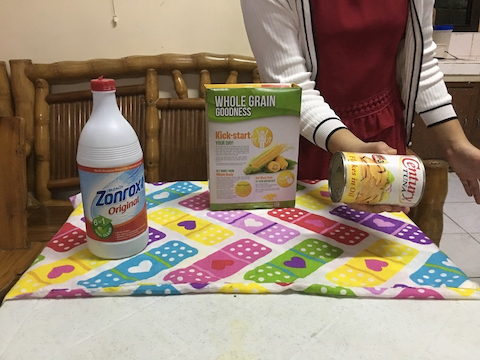bottle: (77, 77, 154, 264)
box: (203, 80, 306, 213)
can: (325, 152, 430, 206)
grab: (348, 198, 412, 219)
